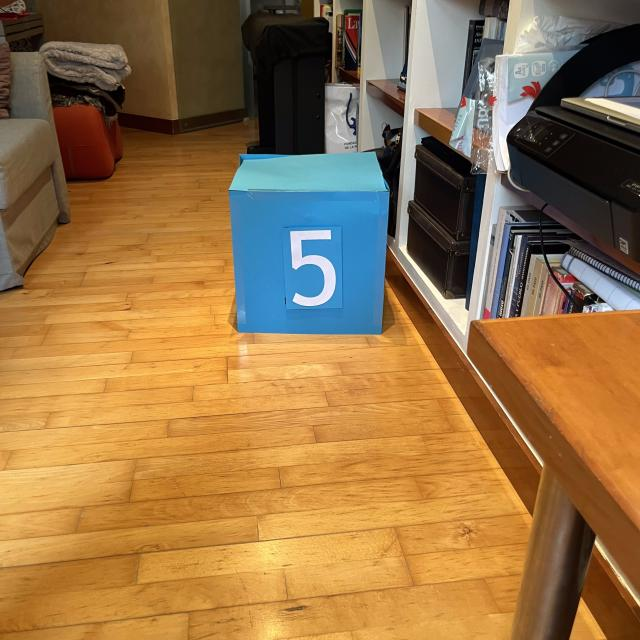box: (225, 148, 392, 337)
